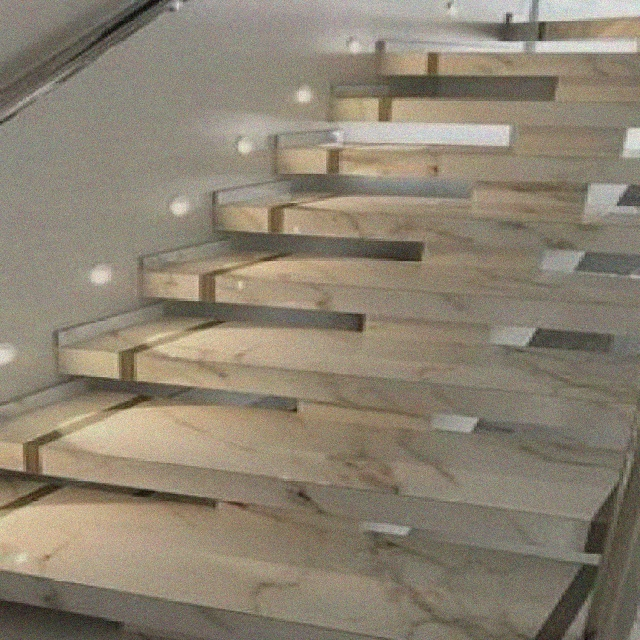stair: (0, 0, 637, 638)
